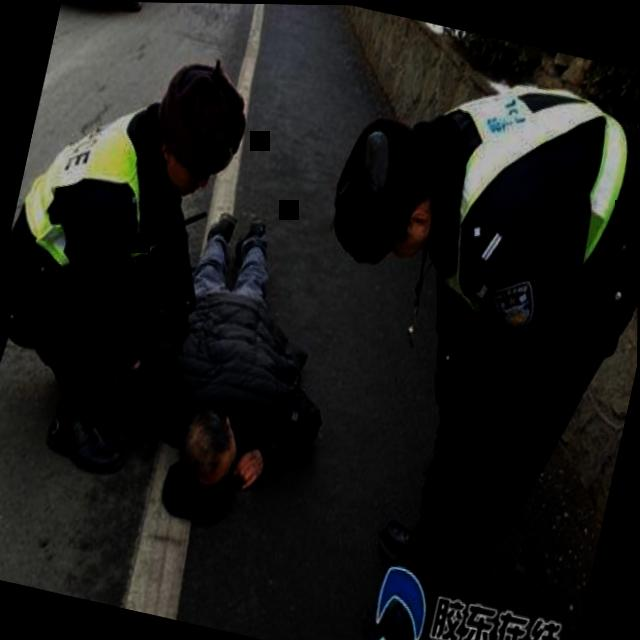Fall-Detected: (98, 181, 363, 539)
